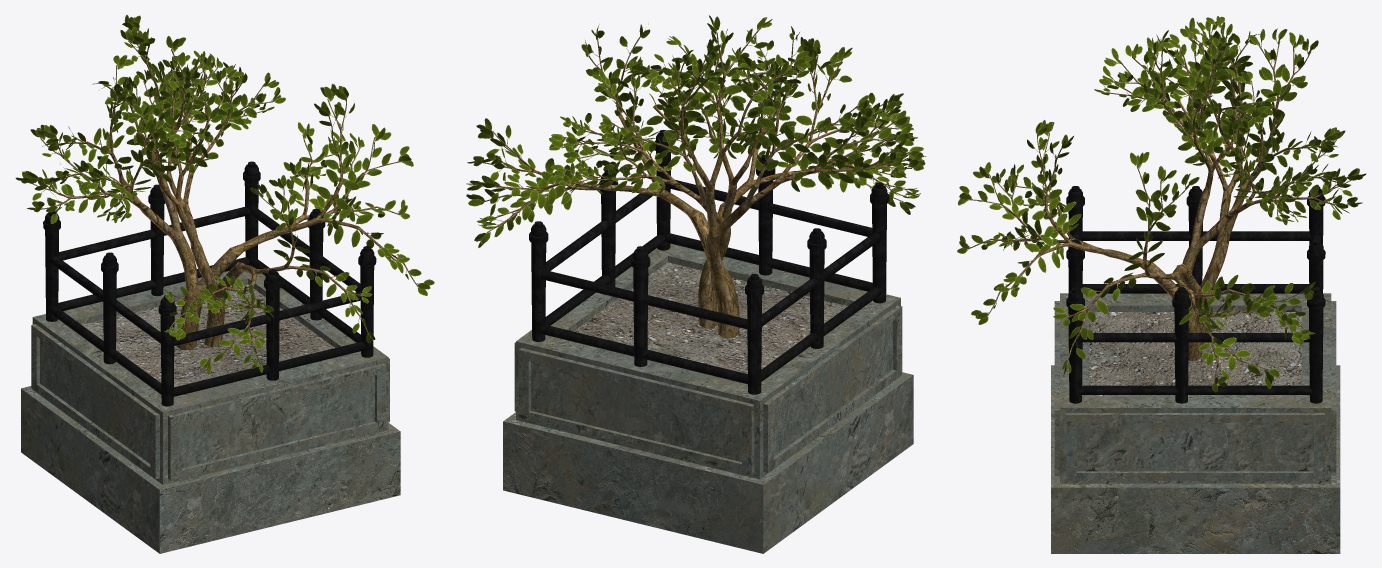
File: objPlant.obj
The picture shows the model from 3 angles, left to right: view 1: azimuth 30°, elevation 25°; view 2: azimuth 150°, elevation 25°; view 3: azimuth 270°, elevation 25°; orthographic projection. The views are drawn at different scales.
Visible parts, largest first — view 1: objPlant; view 2: objPlant; view 3: objPlant.
Boxes of the visible parts, x1,y1,x2,y2 form: objPlant: (15,15,434,553); objPlant: (466,15,926,553); objPlant: (957,16,1366,553).
Bounding box in the file's own units: 0.5649 × 0.5844 × 0.4796.
5 materials, 5 textured.
